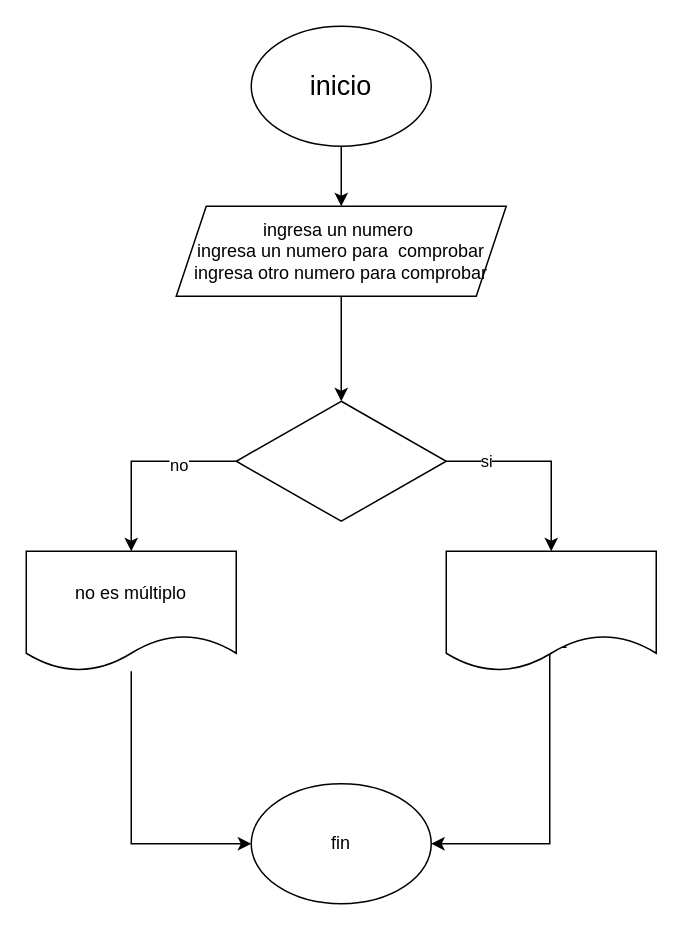
Image size: 683x930. Some labels were removed from this diagram. Here are the shapes that lost their labels. From the top down, the centre of each, then its label:
At [340,460]: "num2*(num1 //num2) num3*(num1//num3)".
At [550,610]: "si es multiplo".
